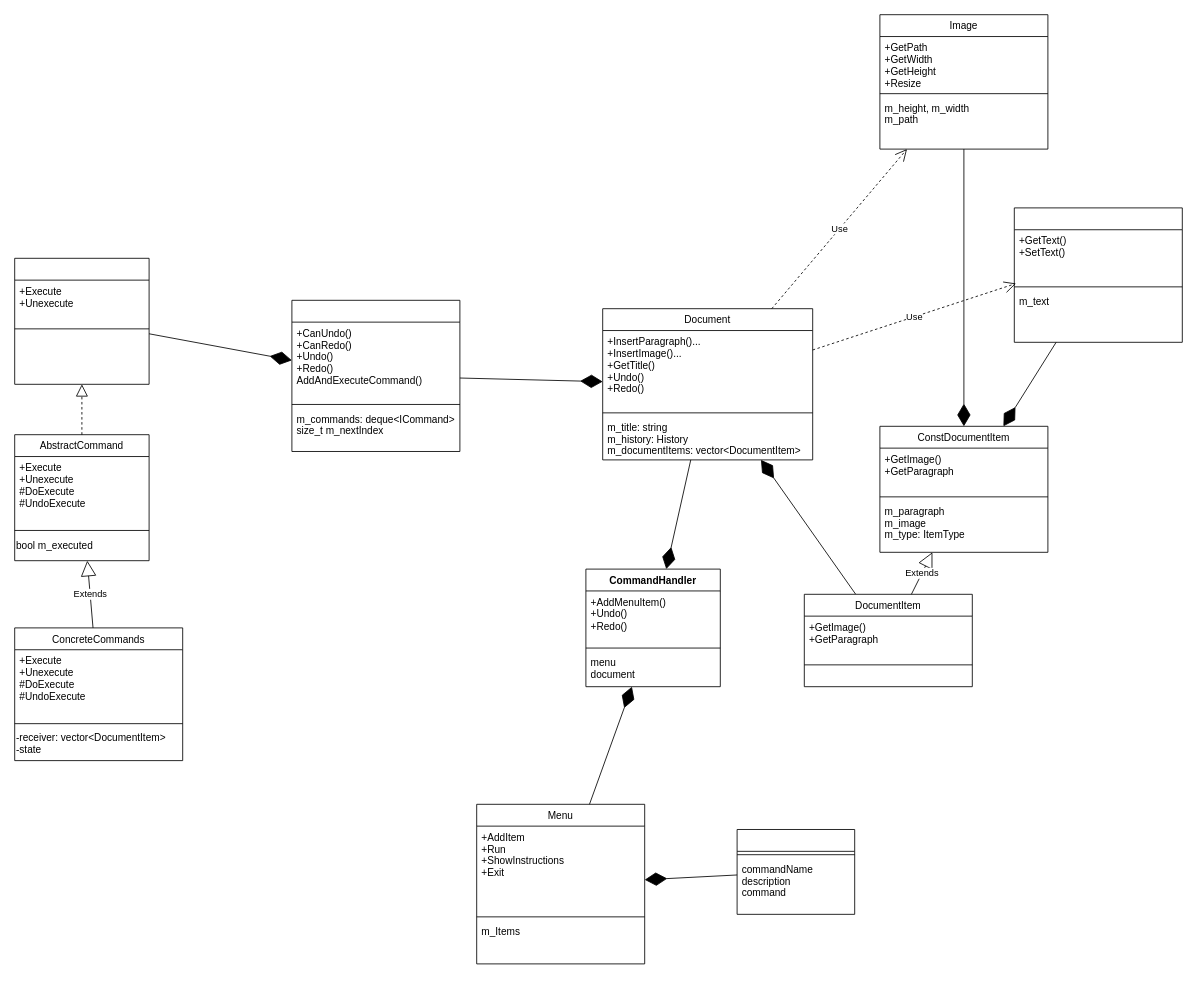
This 1197x981 diagram has some shape labels left out. Here are the shapes that lost their labels. From the top down, the box of each, then its label:
(1013, 207, 1182, 342): Paragraph
(14, 257, 149, 384): ICommand
(291, 299, 460, 452): History
(736, 829, 855, 914): Item
